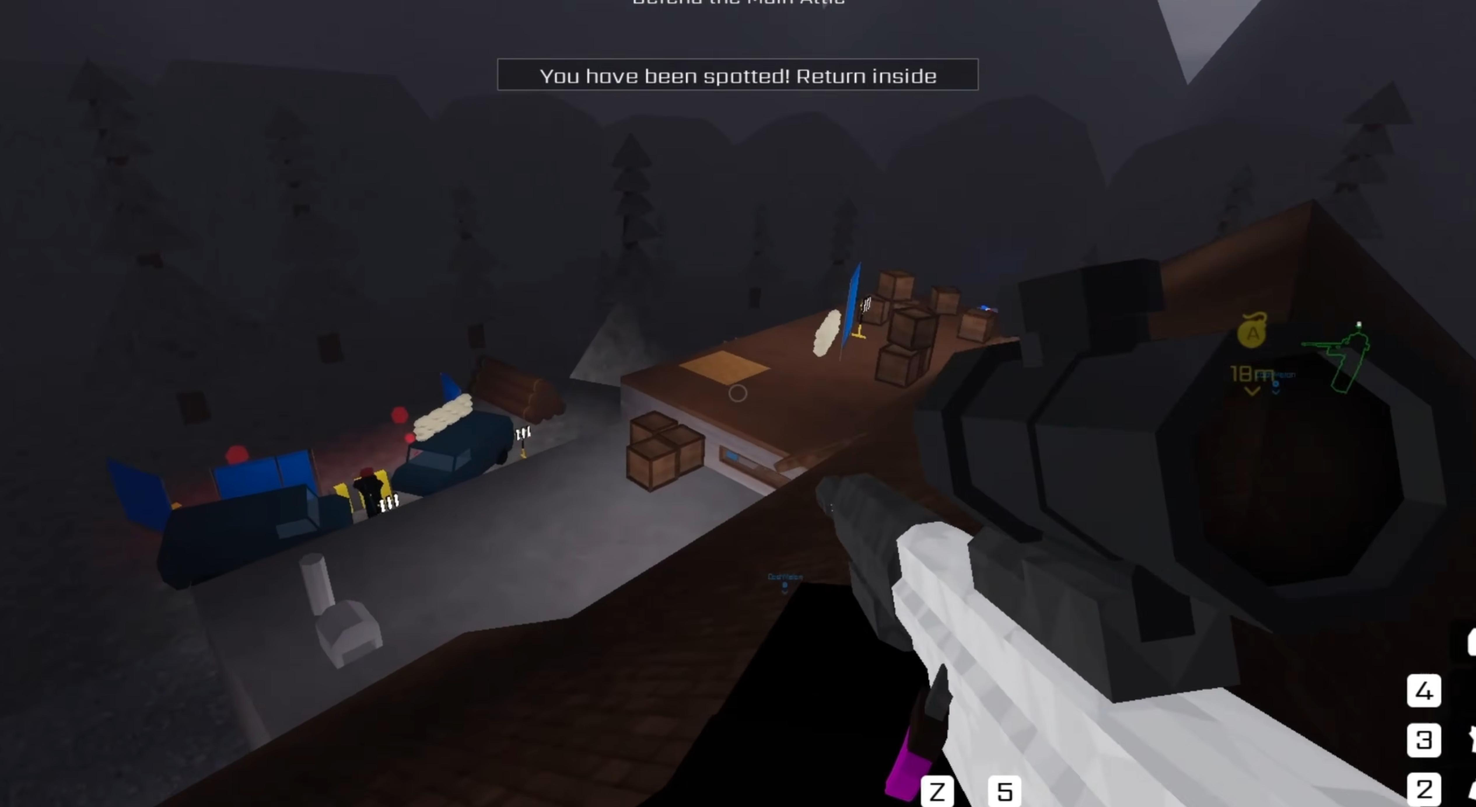enemy: (348, 459, 391, 521)
